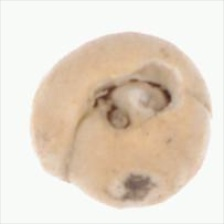L3: (87, 61, 185, 126)
L4: (31, 32, 211, 208)
